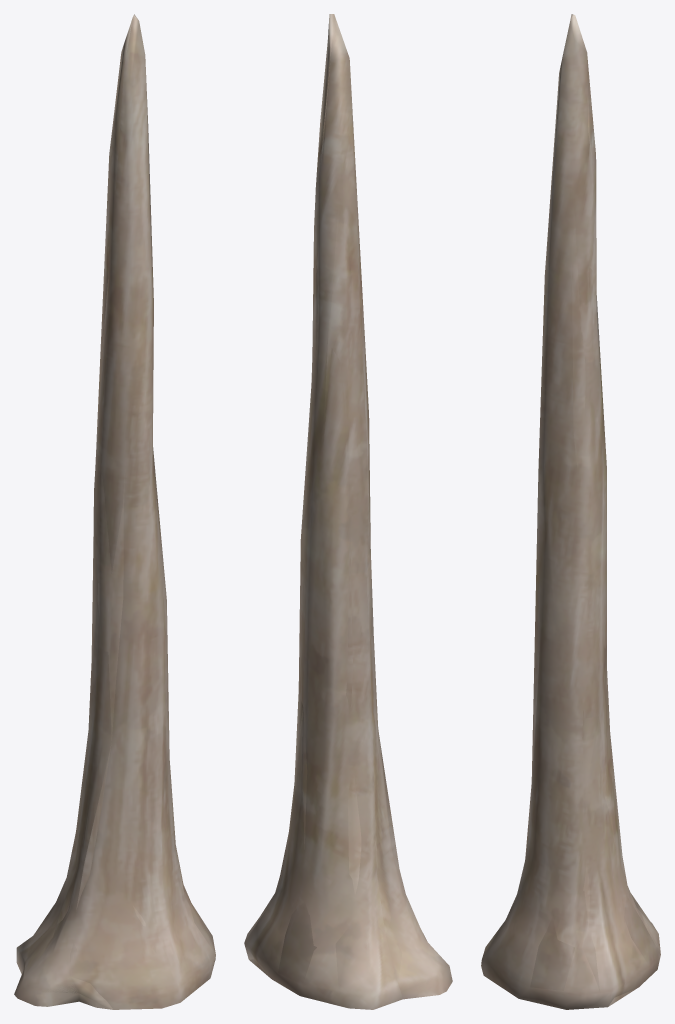
Rendered from Stone_Thorn3.FBX.
The picture shows the model from 3 angles, left to right: view 1: azimuth 30°, elevation 25°; view 2: azimuth 150°, elevation 25°; view 3: azimuth 270°, elevation 25°; orthographic projection.
Parts seen in each view (by area): view 1: Stone_Thorn3, Stone_Thorn3_Lod; view 2: Stone_Thorn3, Stone_Thorn3_Lod; view 3: Stone_Thorn3, Stone_Thorn3_Lod.
Boxes of the visible parts, left/top/right/bottom form: Stone_Thorn3: left=14, top=14, right=215, bottom=1009; Stone_Thorn3_Lod: left=15, top=156, right=215, bottom=1009; Stone_Thorn3: left=244, top=14, right=452, bottom=1009; Stone_Thorn3_Lod: left=247, top=67, right=437, bottom=1008; Stone_Thorn3: left=481, top=14, right=660, bottom=1009; Stone_Thorn3_Lod: left=530, top=59, right=660, bottom=1006.
Size of the model in its own units: 0.2621 by 1.54 by 0.3253.
